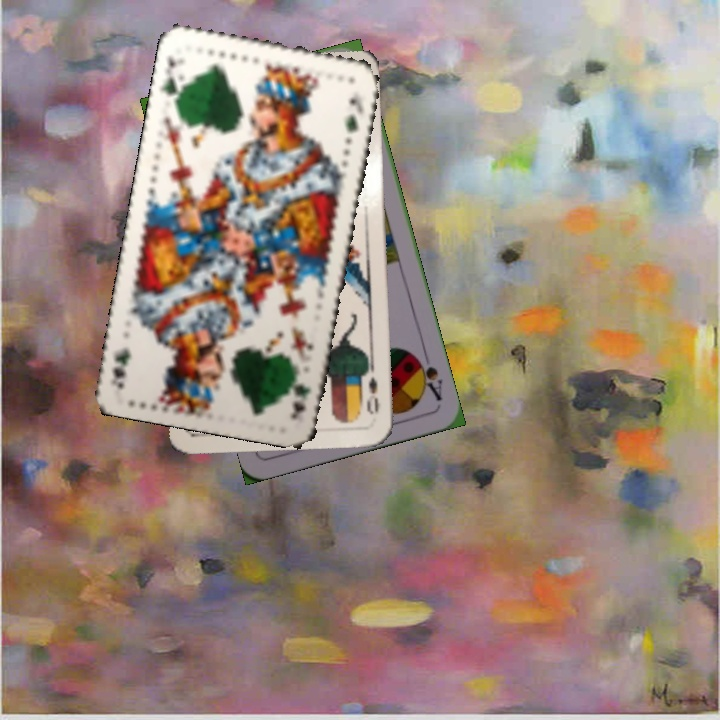EO: (358, 363, 381, 417)
GK: (157, 50, 186, 106), (286, 379, 313, 421)
SA: (410, 350, 445, 404)
